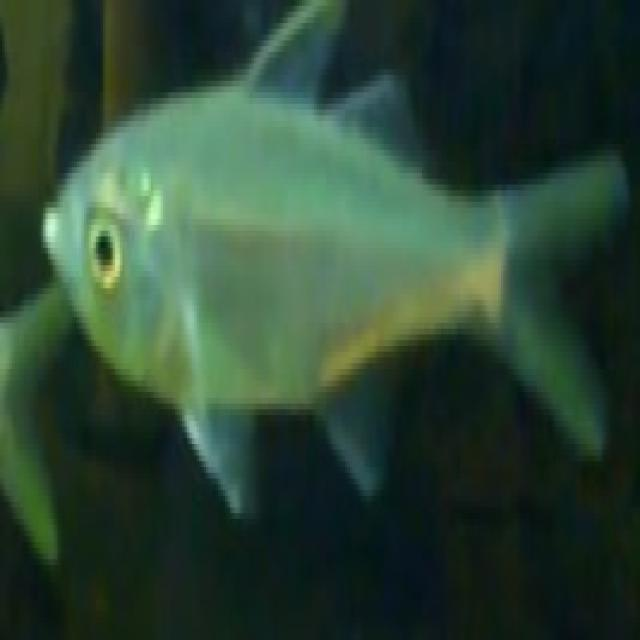Glass-Perchlet: (45, 0, 639, 528)
